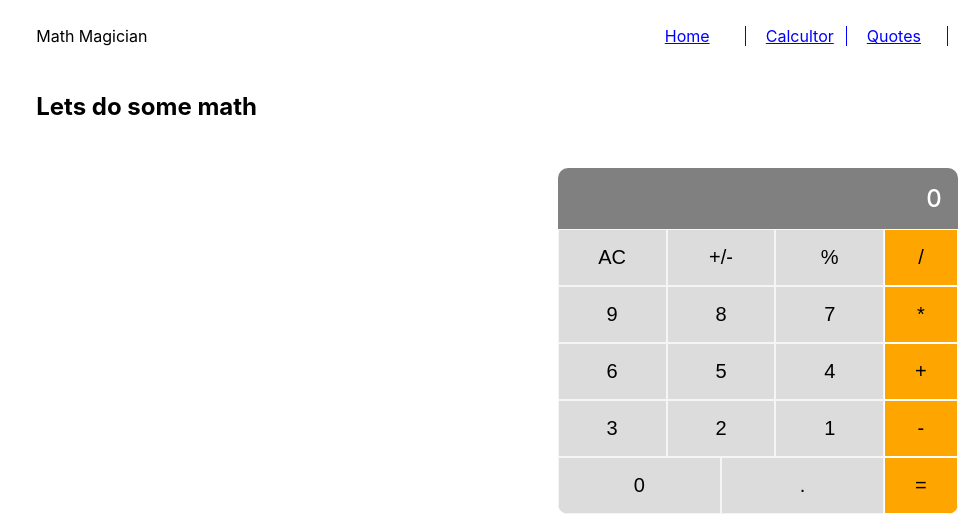
Scenario: When you click the Home link › should rende Home page content
Click the link "Home". click: (705, 36)
box: 665,26 -> 746,46
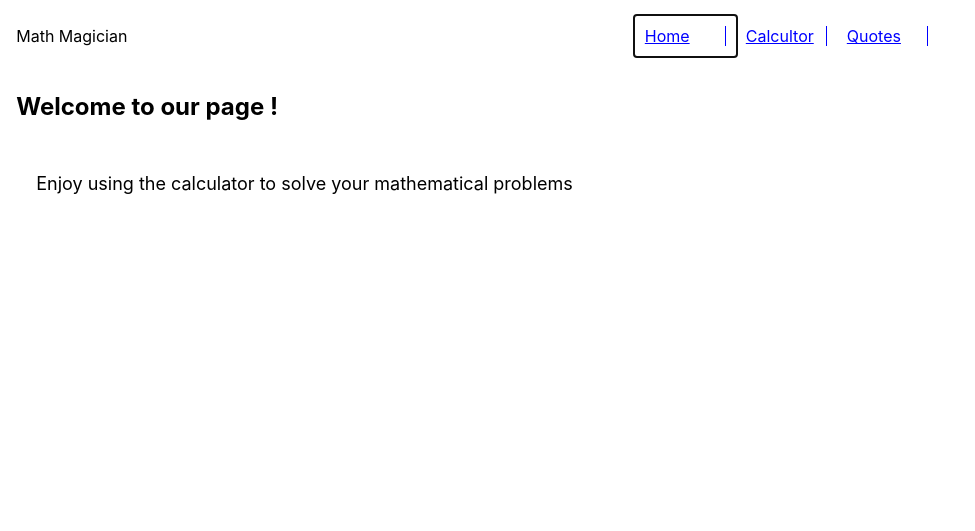
Expected: the heading "Welcome to our page !" is shown, 16,92 -> 278,121
